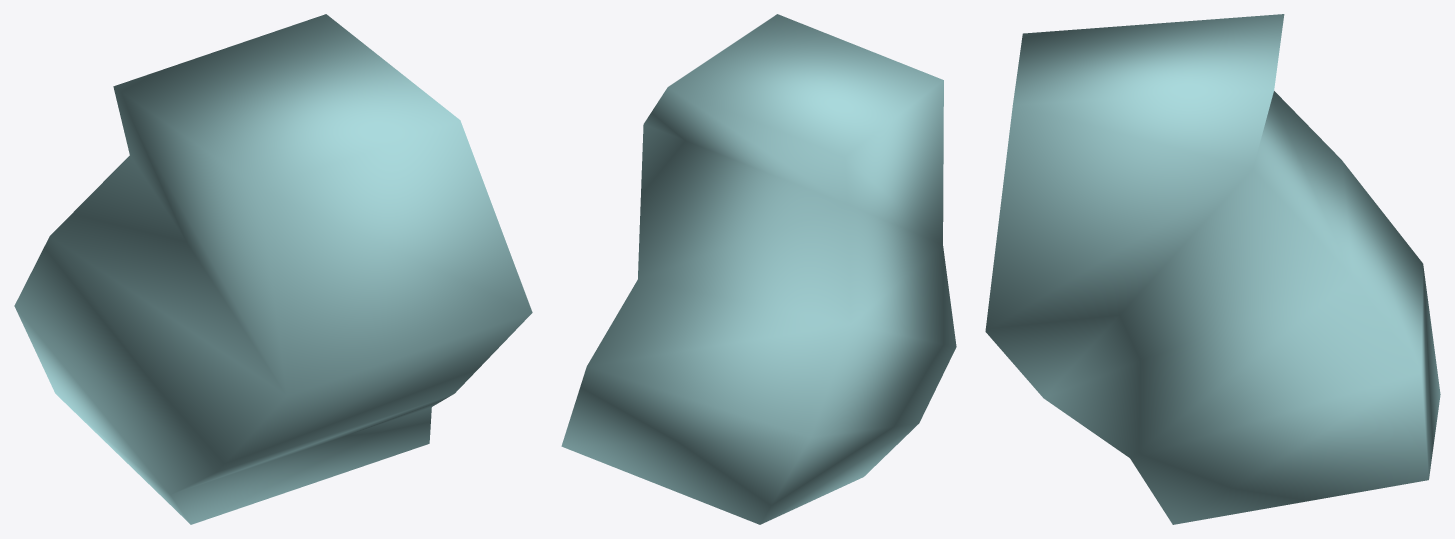
File: skelly_foot_heel.L.fbx
3 renders of one model, left to right at view 1: azimuth 30°, elevation 25°; view 2: azimuth 150°, elevation 25°; view 3: azimuth 270°, elevation 25°, orthographic. The views are drawn at different scales.
Parts seen in each view (by area): view 1: skelly_foot_heel.L; view 2: skelly_foot_heel.L; view 3: skelly_foot_heel.L.
Part boxes in pixels (<box>): skelly_foot_heel.L: <box>14,14,532,524</box>; skelly_foot_heel.L: <box>561,14,956,524</box>; skelly_foot_heel.L: <box>985,14,1440,524</box>.
Size of the model in its own units: 6.03 by 8.19 by 7.72.
